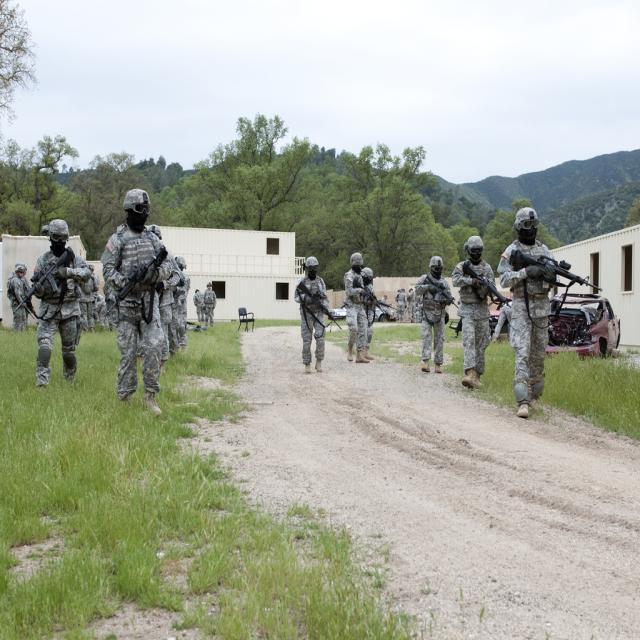weapon: (508, 247, 602, 330), (103, 242, 168, 324), (13, 246, 76, 322), (296, 278, 344, 340), (462, 258, 510, 313), (423, 272, 459, 326), (354, 274, 386, 324), (375, 295, 403, 313)
